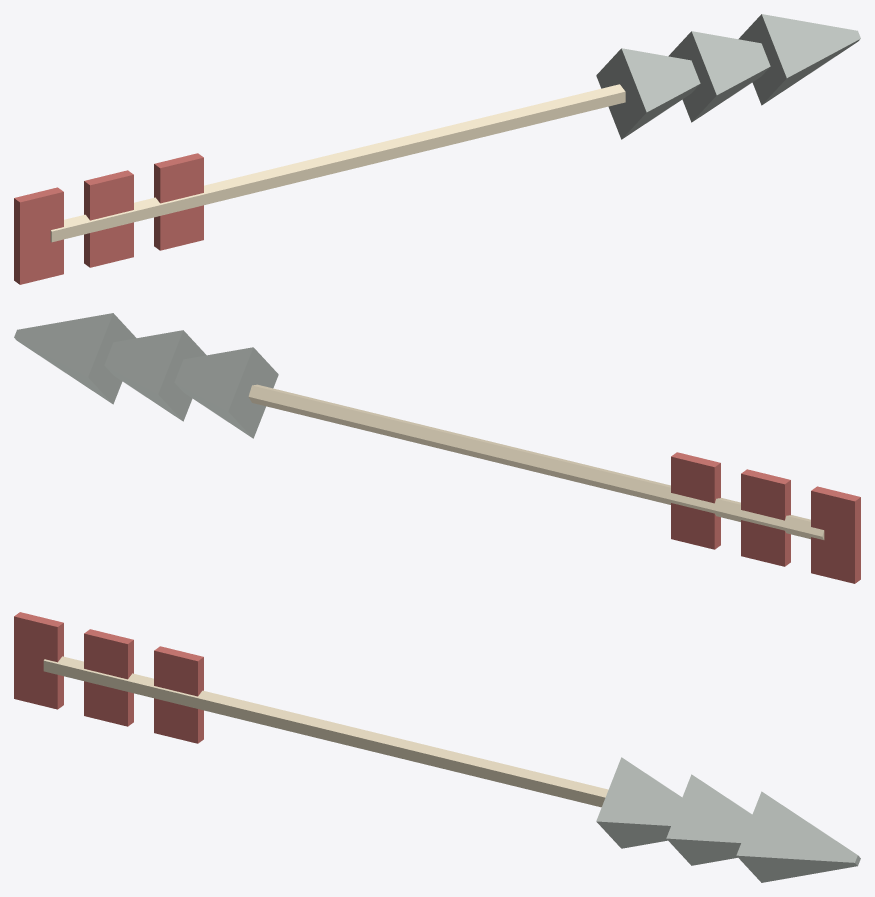
Rendered from arrows.glb.
The picture shows the model from 3 angles, top to bottom: view 1: azimuth 30°, elevation 25°; view 2: azimuth 150°, elevation 25°; view 3: azimuth 330°, elevation 25°; orthographic projection.
Visible parts, largest first — view 1: ArrowShaft1, ArrowTip0, ArrowTip2, ArrowTip1, ArrowShaft0, ArrowFletch0, ArrowFletch1, ArrowFletch2, ArrowShaft2; view 2: ArrowShaft0, ArrowTip0, ArrowTip2, ArrowTip1, ArrowFletch0, ArrowFletch1, ArrowFletch2, ArrowShaft1, ArrowShaft2; view 3: ArrowShaft1, ArrowTip2, ArrowShaft0, ArrowTip0, ArrowTip1, ArrowFletch0, ArrowFletch2, ArrowFletch1, ArrowShaft2.
Boxes of the visible parts, x1,y1,x2,y2 form: ArrowShaft1: (122,84,625,224); ArrowTip0: (596,48,700,139); ArrowTip2: (738,14,860,105); ArrowTip1: (668,31,770,122); ArrowShaft0: (50,85,623,242); ArrowFletch0: (14,187,63,284); ArrowFletch1: (84,170,133,267); ArrowFletch2: (154,153,203,250); ArrowShaft2: (192,84,623,206); ArrowShaft0: (248,385,824,539); ArrowTip0: (174,347,278,438); ArrowTip2: (14,313,136,404); ArrowTip1: (104,330,206,421); ArrowFletch0: (811,486,860,583); ArrowFletch1: (741,469,790,566); ArrowFletch2: (671,452,720,549); ArrowShaft1: (249,385,752,518); ArrowShaft2: (249,384,670,487); ArrowShaft1: (113,673,607,806); ArrowTip2: (736,791,860,882); ArrowShaft0: (43,656,607,806); ArrowTip0: (596,757,682,848); ArrowTip1: (666,774,752,865); ArrowFletch0: (14,612,63,709); ArrowFletch2: (154,646,203,743); ArrowFletch1: (84,629,133,726); ArrowShaft2: (186,691,608,807).
Bounding box in the file's own units: 0.96 × 0.1 × 0.1.
